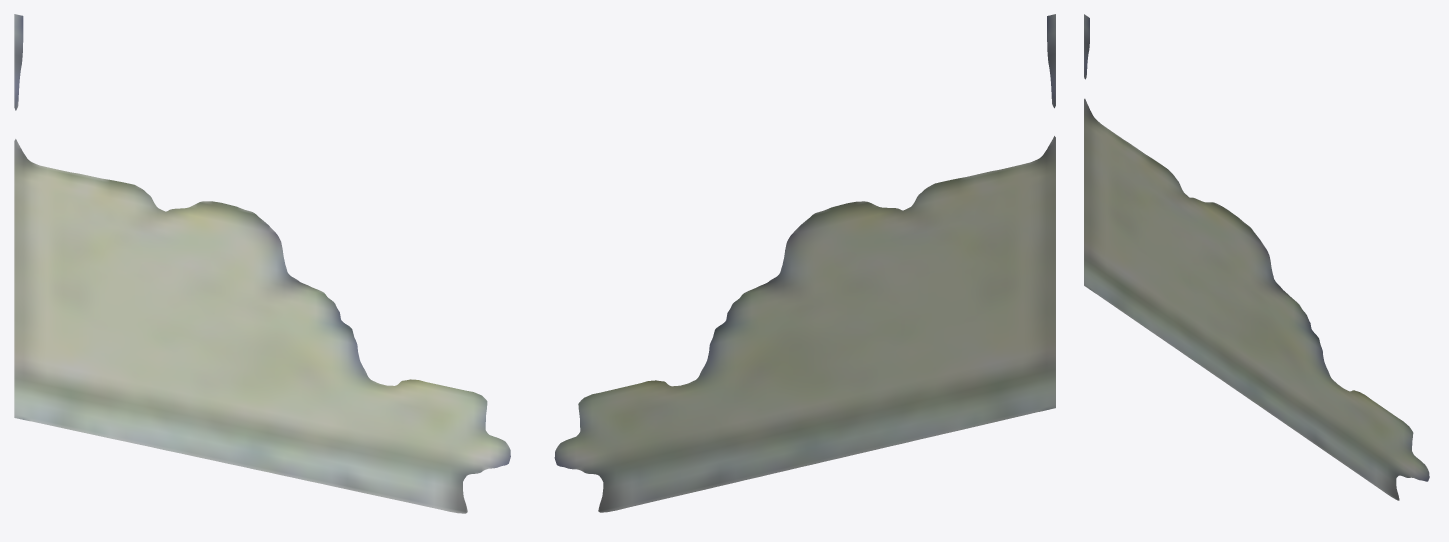
Rendered from 人民英雄纪念碑93.dae.
3 views of the same model, side by side, from view 1: azimuth 30°, elevation 25°; view 2: azimuth 150°, elevation 25°; view 3: azimuth 330°, elevation 25° (orthographic). The views are drawn at different scales.
Visible parts, largest first — view 1: SketchUp; view 2: SketchUp; view 3: SketchUp.
Part boxes in pixels (bbox=[...]): SketchUp: bbox=[14, 14, 510, 513]; SketchUp: bbox=[554, 14, 1055, 512]; SketchUp: bbox=[1084, 14, 1429, 500].
Bounding box in the file's own units: 73.23 × 2.17 × 88.09.
